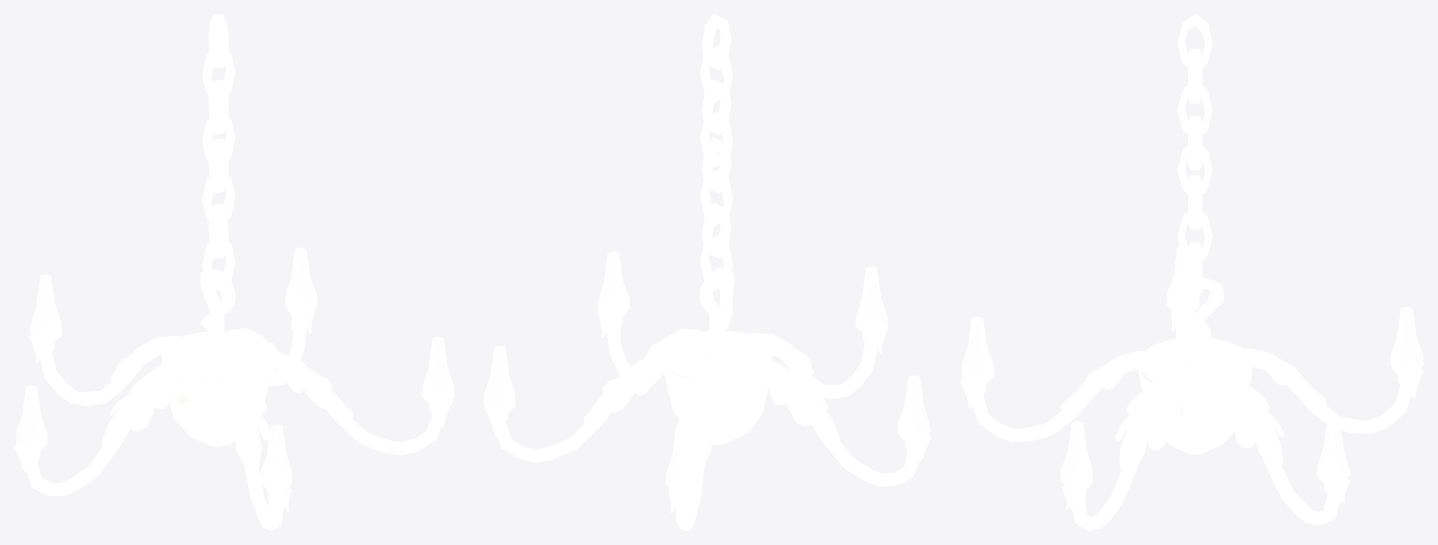
The model's file is chandelier.glb.
3 views of the same model, side by side, from view 1: azimuth 30°, elevation 25°; view 2: azimuth 150°, elevation 25°; view 3: azimuth 270°, elevation 25° (orthographic). The views are drawn at different scales.
Visible parts, largest first — view 1: defaultMaterial; view 2: defaultMaterial; view 3: defaultMaterial.
Boxes of the visible parts, bbox=[...] form: defaultMaterial: bbox=[14, 14, 454, 530]; defaultMaterial: bbox=[483, 14, 931, 530]; defaultMaterial: bbox=[960, 14, 1423, 530].
Size of the model in its own units: 1.94 by 2.11 by 1.99.
1 material, 1 textured.
